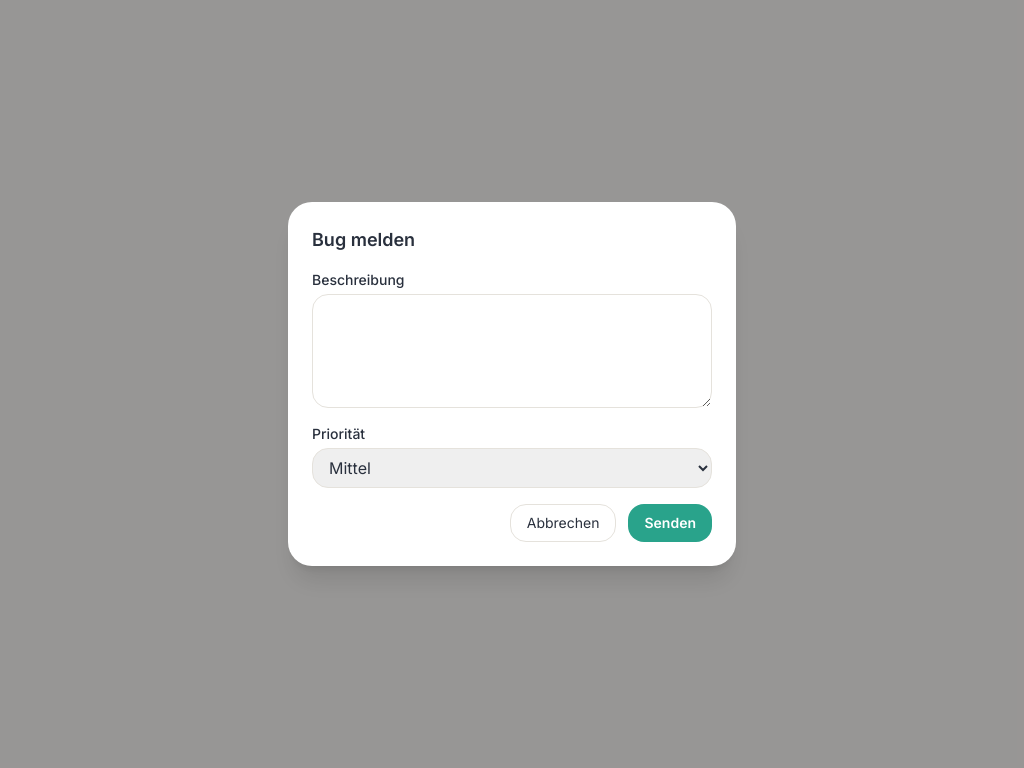
Test case: BugReportModal › shows an error when the sink rejects
In the text box labelled "Beschreibung": (512, 351) [312,294,712,408], type "Test"
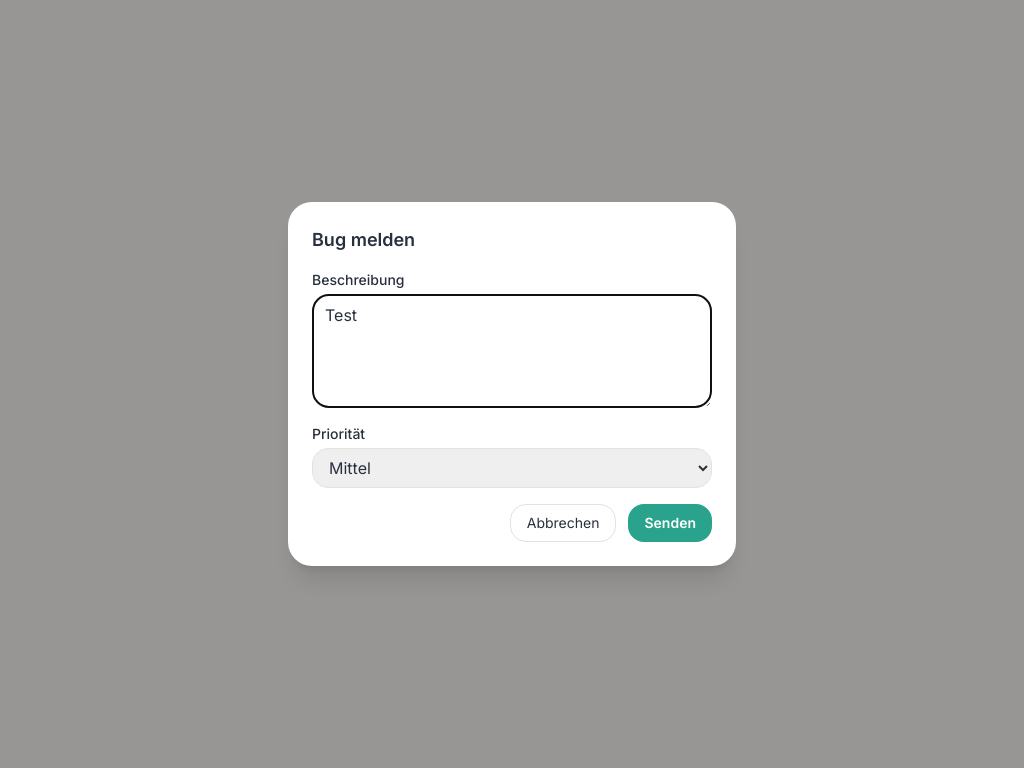
Click the button "Senden": (670, 523) [628,504,712,542]
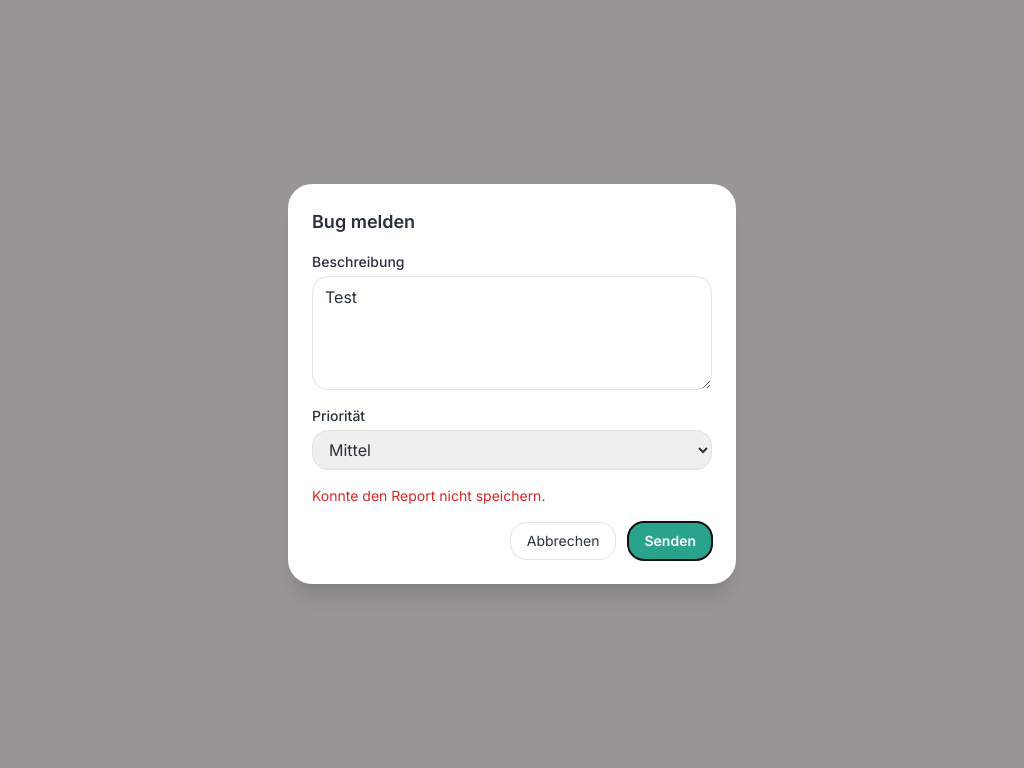
Result: the text "Konnte den Report nicht speichern." is shown at [312,487,545,504]
